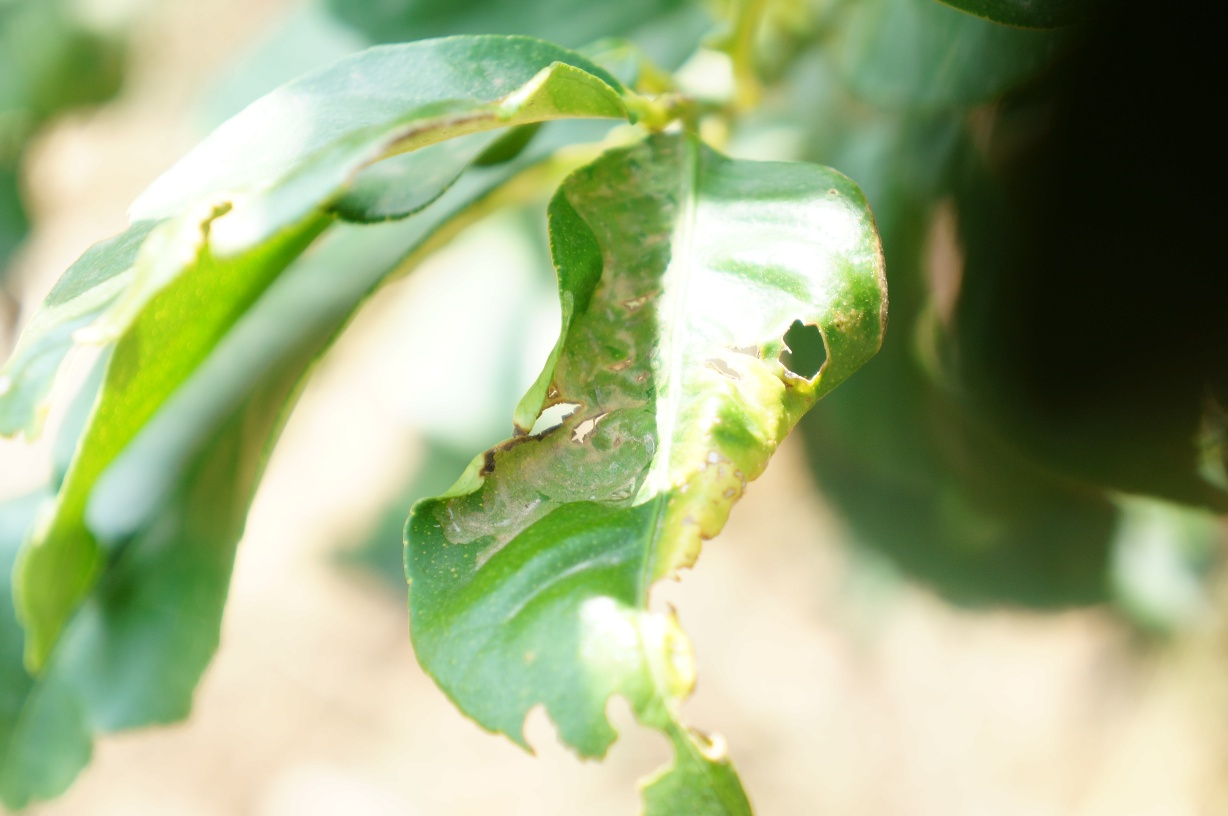damage: (427, 289, 650, 575)
